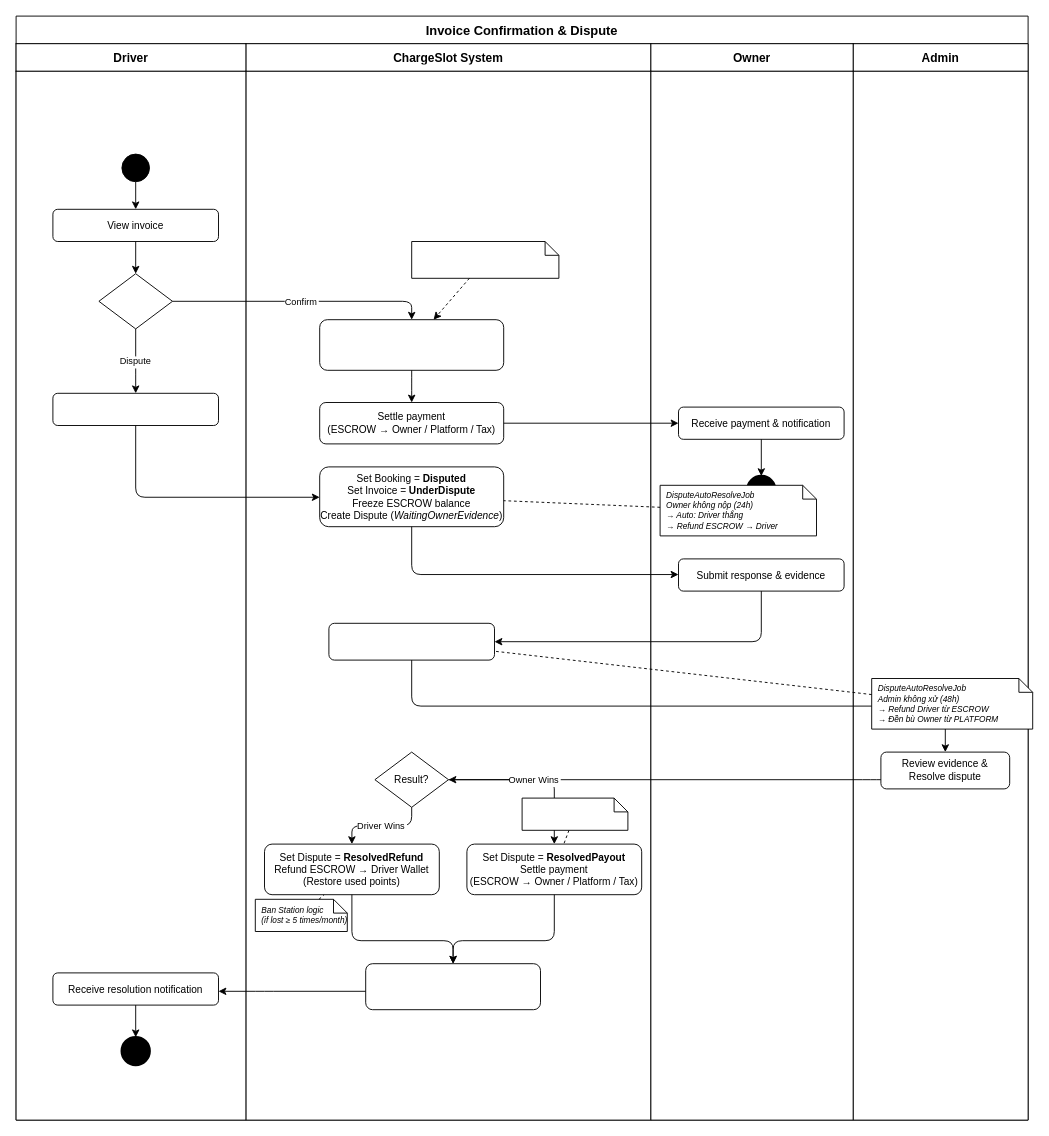
This 1049x1136 diagram has some shape labels left out. Here are the shapes that lost their labels. From the top down, the centre of each, then its label:
At point 485,259: "InvoiceAutoConfirmJob (if 24h passed) → auto confirm".
At point 135,301: "Action?".
At point 411,344: "Set Booking = Completed Set Invoice = Confirmed Add Loyalty Points to Driver".
At point 135,409: "Submit dispute & evidence".
At point 411,641: "Set Dispute = PendingReview Notify Admin".
At point 574,813: "Suspend Driver logic (if lost ≥ 3 times/month)".
At point 452,986: "Set Booking = Completed Set Invoice = Resolved Notify Driver & Owner".
